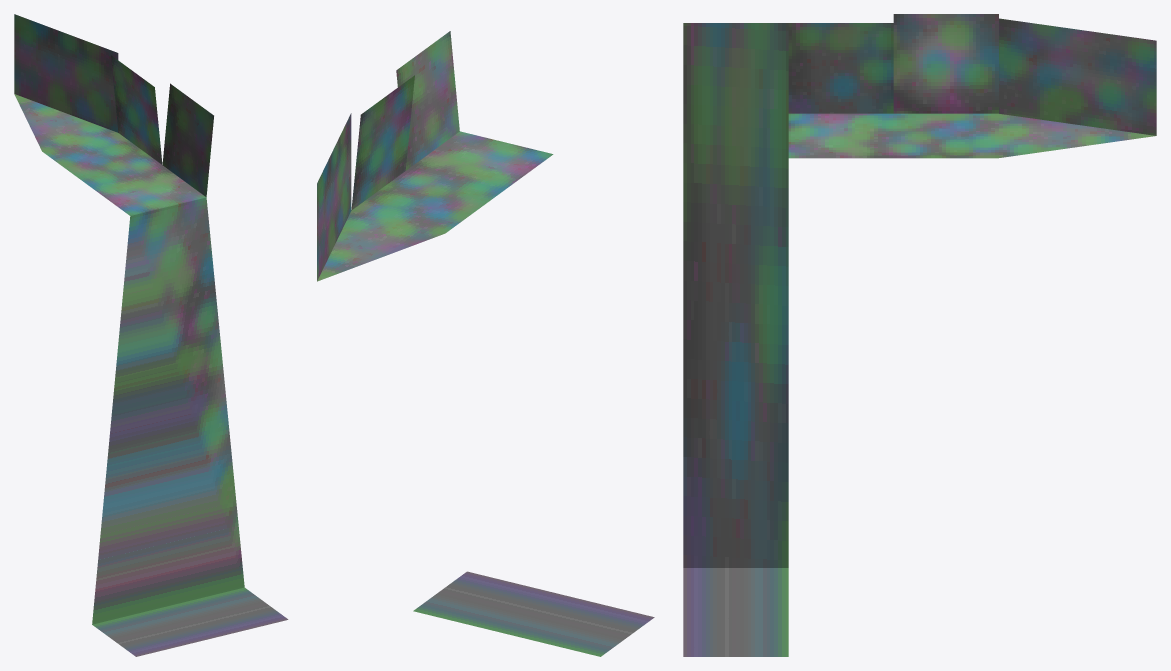
File: wierd_geometry_land.glb
The picture shows the model from 3 angles, left to right: view 1: azimuth 30°, elevation 25°; view 2: azimuth 150°, elevation 25°; view 3: azimuth 270°, elevation 25°; orthographic projection. The views are drawn at different scales.
Visible parts, largest first — view 1: Plane; view 2: Plane; view 3: Plane.
Part boxes in pixels (x1,y1,x2,y2): Plane: (14, 14, 288, 656); Plane: (317, 31, 654, 656); Plane: (683, 14, 1156, 656).
Bounding box in the file's own units: 20 × 60 × 45.
1 material, 1 textured.
